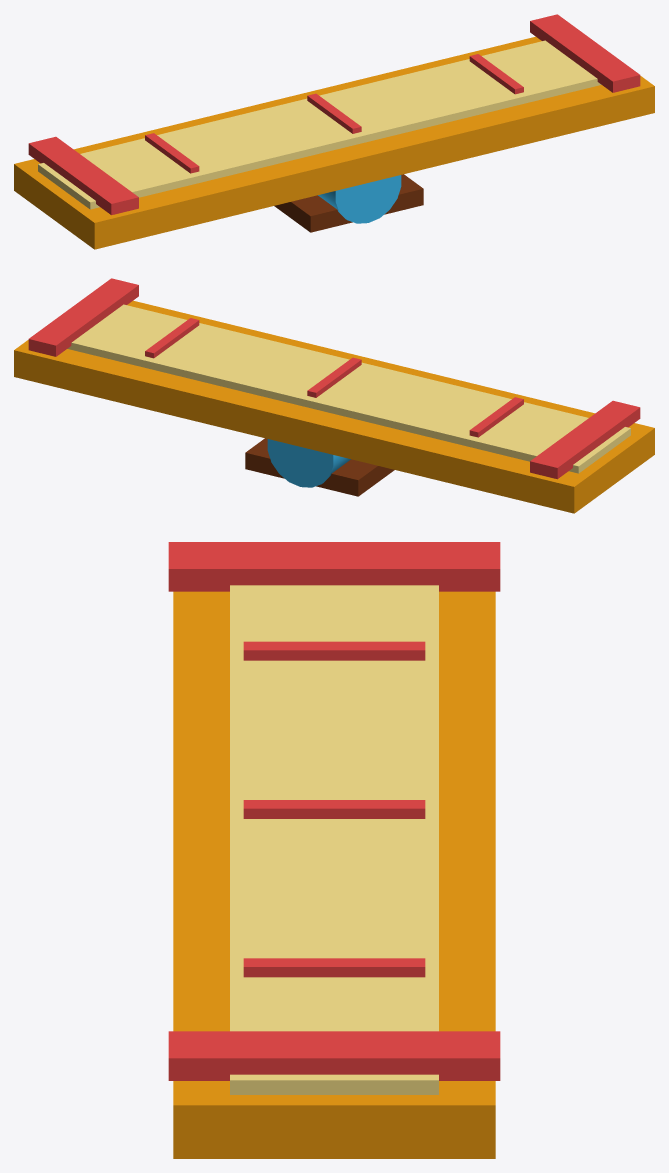
File: toy_barn_seesaw_board.glb
3 renders of one model, top to bottom at view 1: azimuth 30°, elevation 25°; view 2: azimuth 150°, elevation 25°; view 3: azimuth 270°, elevation 25°, orthographic. The views are drawn at different scales.
Visible parts, largest first — view 1: solid_1, solid_2, solid_3, solid_4, solid_5, solid_6, solid_7, solid_8, solid_9; view 2: solid_1, solid_2, solid_3, solid_4, solid_5, solid_6, solid_7, solid_8, solid_9; view 3: solid_2, solid_1, solid_3, solid_4, solid_7, solid_9, solid_8.
Boxes of the visible parts, x1=… form: solid_1: x1=14, y1=36, x2=654, y2=249; solid_2: x1=38, y1=40, x2=601, y2=209; solid_3: x1=28, y1=136, x2=138, y2=215; solid_4: x1=530, y1=14, x2=640, y2=92; solid_5: x1=318, y1=175, x2=401, y2=223; solid_6: x1=274, y1=174, x2=423, y2=232; solid_7: x1=145, y1=133, x2=199, y2=173; solid_8: x1=307, y1=93, x2=361, y2=133; solid_9: x1=469, y1=54, x2=523, y2=94; solid_1: x1=14, y1=300, x2=654, y2=513; solid_2: x1=67, y1=304, x2=630, y2=473; solid_3: x1=530, y1=400, x2=640, y2=479; solid_4: x1=28, y1=278, x2=138, y2=356; solid_5: x1=267, y1=439, x2=350, y2=487; solid_6: x1=245, y1=438, x2=394, y2=496; solid_7: x1=469, y1=397, x2=523, y2=437; solid_8: x1=307, y1=357, x2=361, y2=397; solid_9: x1=145, y1=318, x2=199, y2=358; solid_2: x1=230, y1=585, x2=438, y2=1094; solid_1: x1=173, y1=591, x2=495, y2=1158; solid_3: x1=168, y1=542, x2=500, y2=591; solid_4: x1=168, y1=1031, x2=500, y2=1080; solid_7: x1=243, y1=641, x2=425, y2=660; solid_9: x1=243, y1=958, x2=425, y2=977; solid_8: x1=243, y1=800, x2=425, y2=818.
Bounding box in the file's own units: 5.7 × 0.865 × 1.46.
